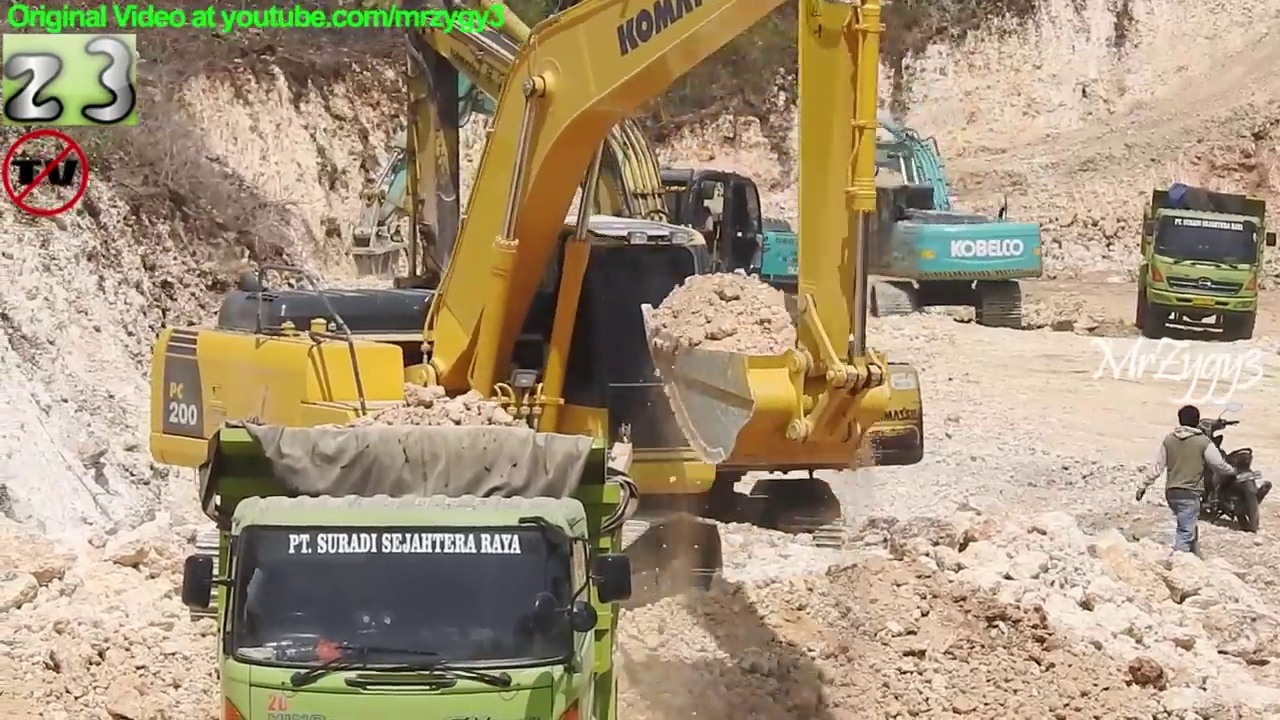excavator: (137, 1, 937, 638), (365, 1, 934, 564), (341, 41, 833, 347), (815, 75, 1051, 340)
truck: (177, 414, 644, 720), (1131, 178, 1280, 345)
